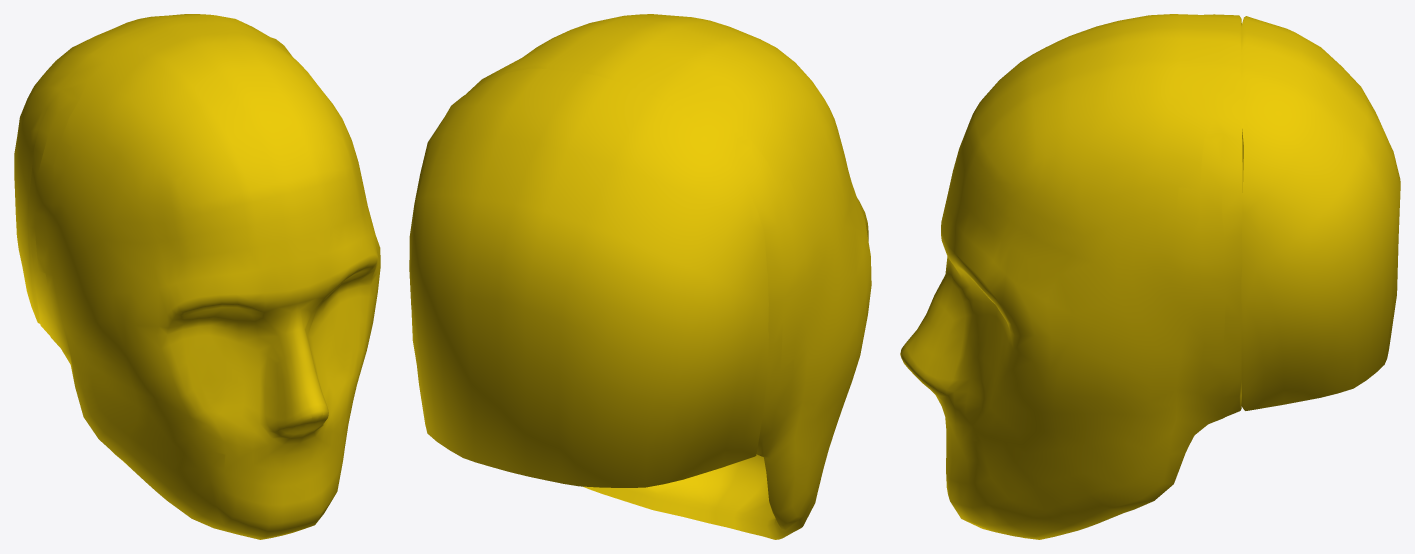
File: Head.fbx
3 views of the same model, side by side, from view 1: azimuth 30°, elevation 25°; view 2: azimuth 150°, elevation 25°; view 3: azimuth 270°, elevation 25° (orthographic). The views are drawn at different scales.
Parts seen in each view (by area): view 1: Head.001; view 2: Head.001; view 3: Head.001.
Part boxes in pixels (box(x1,y1,x2,y2)): Head.001: box(14, 14, 380, 539); Head.001: box(409, 14, 871, 539); Head.001: box(900, 14, 1400, 539).
Size of the model in its own units: 15.18 by 22.65 by 20.87.
